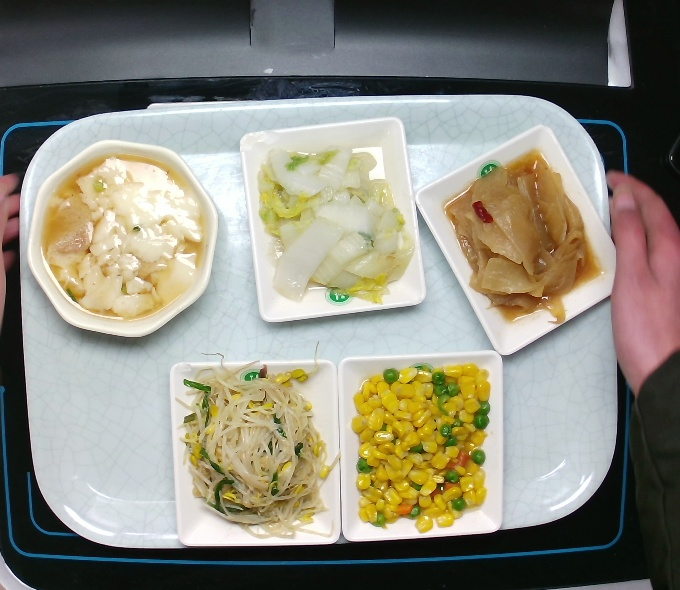wcq-DaBaiCai: (254, 142, 419, 307)
wcq-DongGua: (440, 146, 604, 328)
wcq-DouYa: (174, 339, 343, 542)
wcq-ShuiZhengDan: (35, 147, 208, 323)
wcq-TianMiTianDou: (349, 360, 493, 535)
